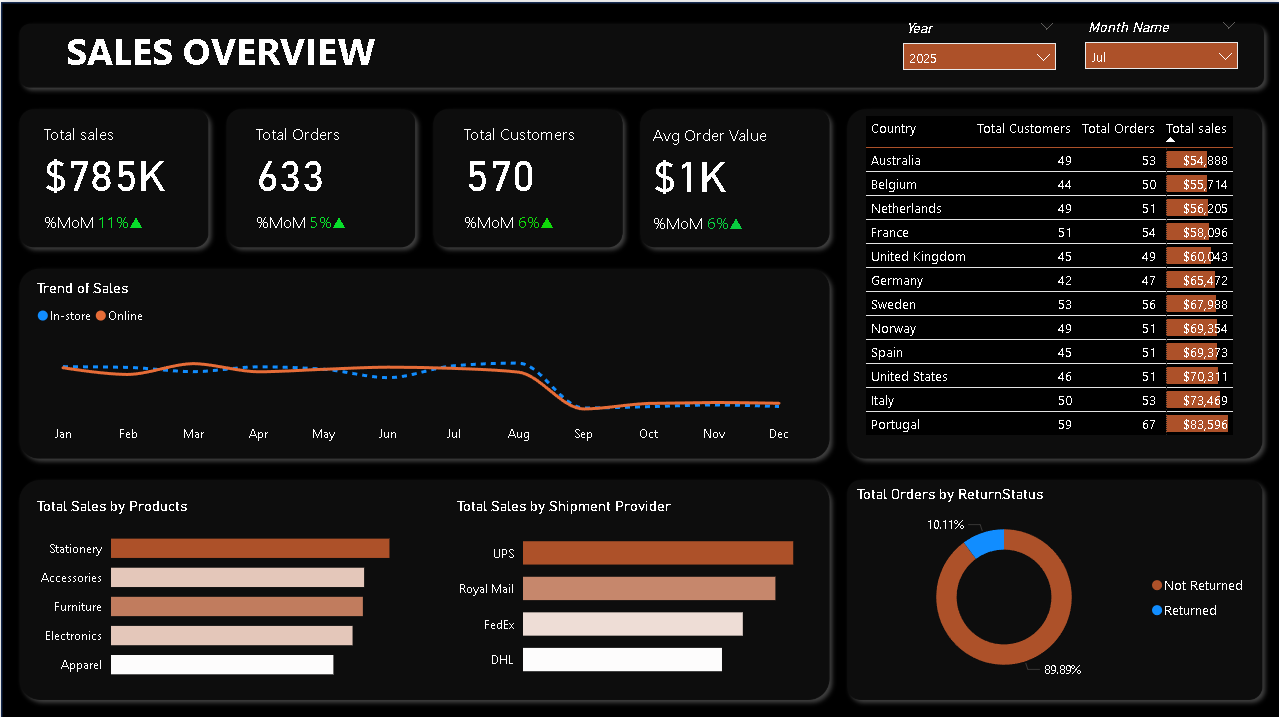

The page's visual inventory and layout, read from the dashboard file:
{"tool":"powerbi","page":{"name":"Overview","canvas":[1280,720],"ordinal":1},"visuals":[{"type":"slicer","fields":{"Values":["Date Table.Year"]},"box":[891.7,11.7,173.3,73.3],"z":0},{"type":"slicer","fields":{"Values":["Date Table.Month Name"]},"box":[1074.3,11.4,172.9,72.9],"z":1000},{"type":"cardVisual","fields":{"Data":["_Measures.Total sales"]},"box":[31.1,108.9,171.1,133.3],"z":2000},{"type":"cardVisual","fields":{"Data":["_Measures.Total Orders"]},"box":[243.3,108.9,162.2,133.3],"z":3000},{"type":"cardVisual","fields":{"Data":["_Measures.Total Customers"]},"box":[451.1,108.9,165.6,133.3],"z":4000},{"type":"cardVisual","fields":{"Data":["_Measures.Avg Order Value"]},"box":[640,108.6,168.6,134.3],"z":5000},{"type":"lineChart","title":"Trend of Sales ","fields":{"Category":["Date Table.Month Name"],"Y":["_Measures.Total sales"],"Series":["sales.SalesChannel"]},"box":[31.1,277.8,777.8,171.1],"z":6000},{"type":"barChart","title":"Total Sales by Products","fields":{"Category":["sales.Products.Category","sales.Products.Description"],"Y":["_Measures.Total sales"]},"box":[31.4,495.7,401.4,194.3],"z":7000},{"type":"barChart","title":"Total Sales by Shipment Provider","fields":{"Category":["sales.ShipmentProvider"],"Y":["_Measures.Total sales"]},"box":[451.4,495.7,375.7,194.3],"z":8000},{"type":"tableEx","fields":{"Values":["sales.Country","_Measures.Total Customers","_Measures.Total Orders","_Measures.Total sales"]},"box":[859,109,398,340],"z":9000},{"type":"donutChart","fields":{"Y":["_Measures.Total Orders"],"Category":["sales.ReturnStatus"]},"box":[851.4,484.3,405.7,205.7],"z":10000},{"type":"textbox","box":[60,18,343,67],"z":11000}]}

Visuals, with their boxes in screenshot pixels (x1, y1, x2, y2), scaled from the page's 1280x720 canvas onto the 1279x717 screenshot:
slicer - Date Table.Year: detection(891, 12, 1064, 85)
slicer - Date Table.Month Name: detection(1073, 11, 1246, 84)
cardVisual - _Measures.Total sales: detection(31, 108, 202, 241)
cardVisual - _Measures.Total Orders: detection(243, 108, 405, 241)
cardVisual - _Measures.Total Customers: detection(451, 108, 616, 241)
cardVisual - _Measures.Avg Order Value: detection(640, 108, 808, 242)
"Trend of Sales " lineChart: detection(31, 277, 808, 447)
"Total Sales by Products" barChart: detection(31, 494, 432, 687)
"Total Sales by Shipment Provider" barChart: detection(451, 494, 826, 687)
tableEx - sales.Country x _Measures.Total Customers: detection(858, 109, 1256, 447)
donutChart - _Measures.Total Orders x sales.ReturnStatus: detection(851, 482, 1256, 687)
textbox: detection(60, 18, 403, 85)
